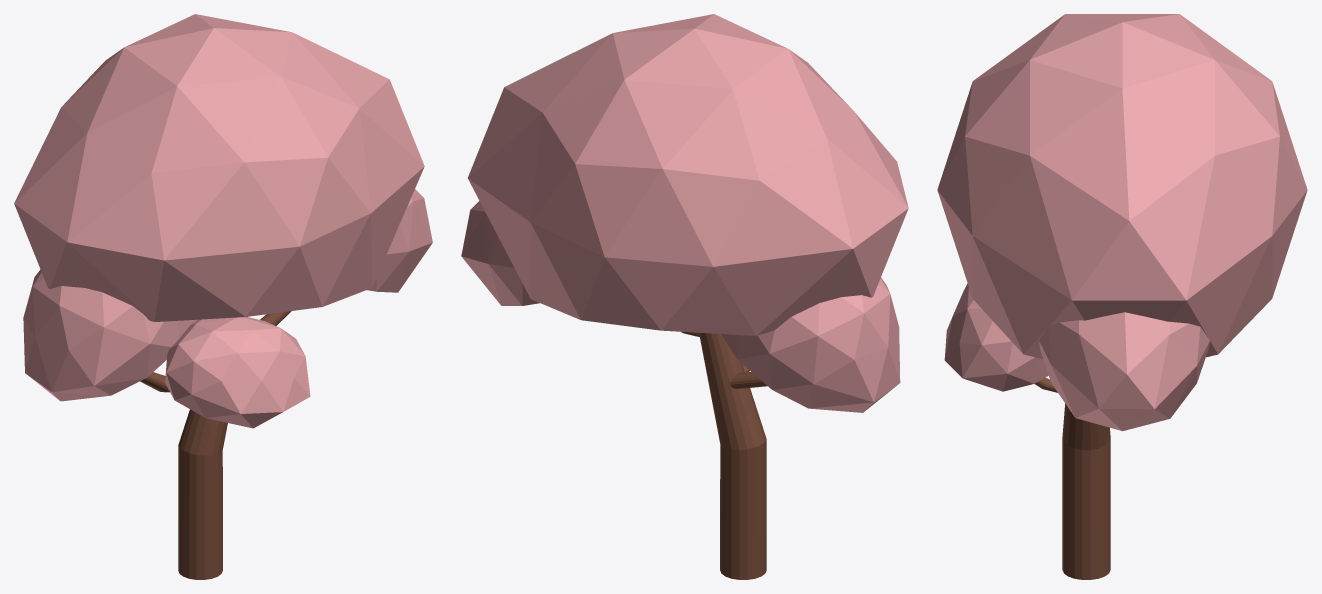
The model's file is foresttree 1.fbx.
3 views of the same model, side by side, from view 1: azimuth 30°, elevation 25°; view 2: azimuth 150°, elevation 25°; view 3: azimuth 270°, elevation 25° (orthographic). The views are drawn at different scales.
Visible parts, largest first — view 1: leaf, trunk; view 2: leaf, trunk; view 3: leaf, trunk.
Part boxes in pixels (bbox=[...]): leaf: bbox=[14, 14, 432, 428]; trunk: bbox=[140, 311, 291, 579]; leaf: bbox=[461, 14, 908, 412]; trunk: bbox=[681, 331, 767, 579]; leaf: bbox=[937, 14, 1307, 431]; trunk: bbox=[1034, 377, 1110, 579].
Size of the model in its own units: 679 by 860 by 512.
